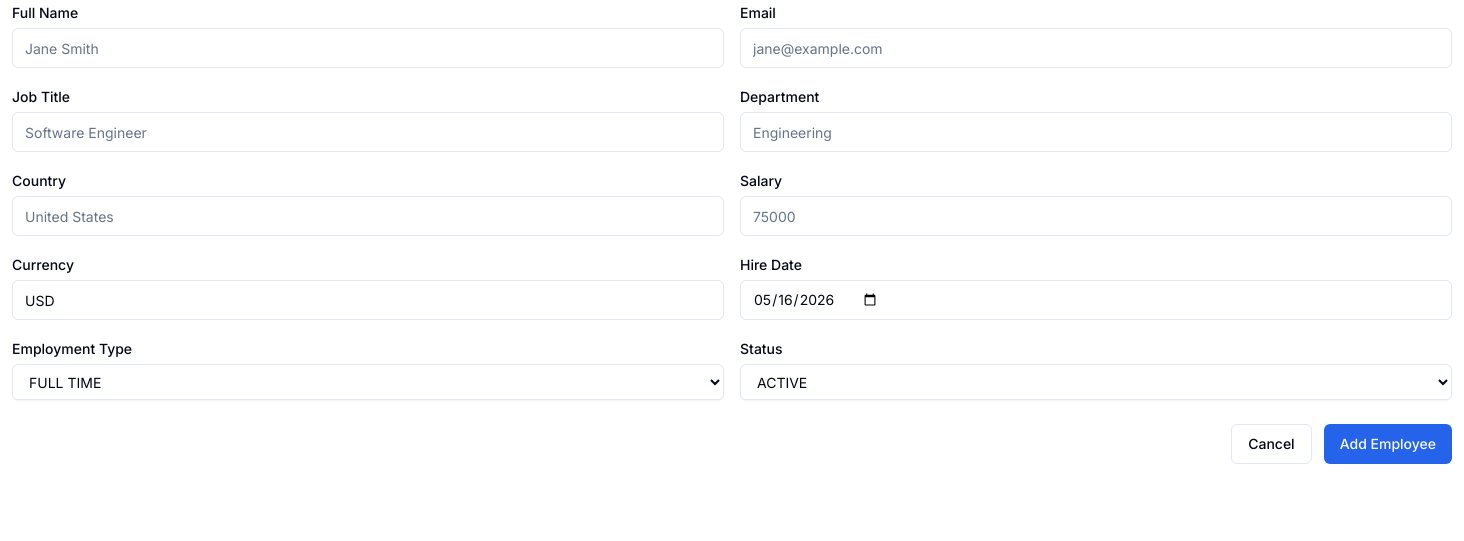
Test: EmployeeForm › shows validation error when salary is negative
Type "-100" into the number field labelled "Salary" at (1096, 216), box x1=740 y1=196 x2=1452 y2=236
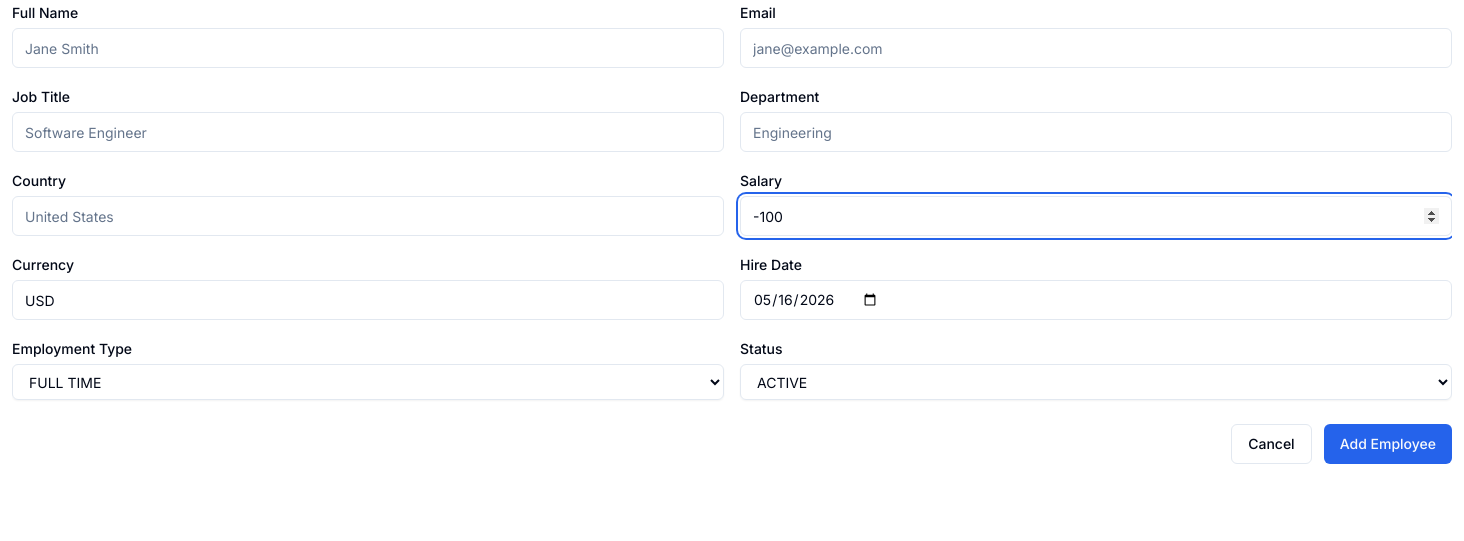
Submit the form
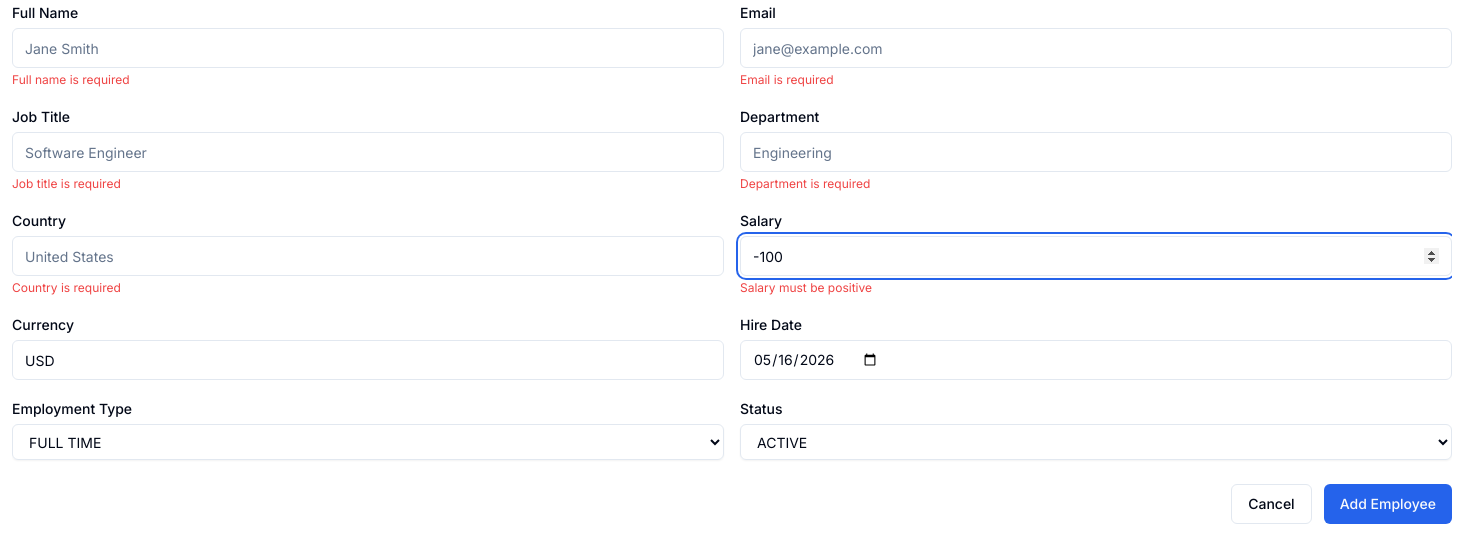
Expected: the text "Salary must be positive" is shown, x1=740 y1=280 x2=872 y2=295
